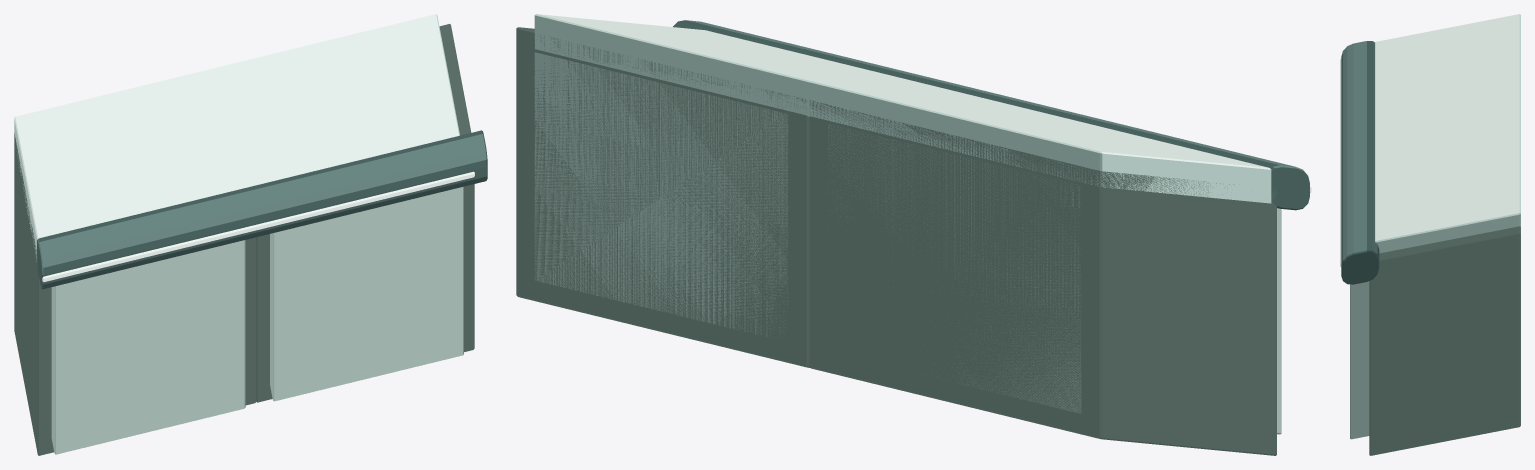
Rendered from Terrain_TopRun2R.gltf.
3 renders of one model, left to right at view 1: azimuth 30°, elevation 25°; view 2: azimuth 150°, elevation 25°; view 3: azimuth 270°, elevation 25°, orthographic. The views are drawn at different scales.
Parts seen in each view (by area): view 1: Terrain_TopRun2R_baked; view 2: Terrain_TopRun2R_baked; view 3: Terrain_TopRun2R_baked.
Part boxes in pixels (x1,y1,x2,y2): Terrain_TopRun2R_baked: (14, 14, 487, 455); Terrain_TopRun2R_baked: (516, 14, 1311, 455); Terrain_TopRun2R_baked: (1340, 14, 1520, 455).
Size of the model in its own units: 2.29 by 1.18 by 0.74.
